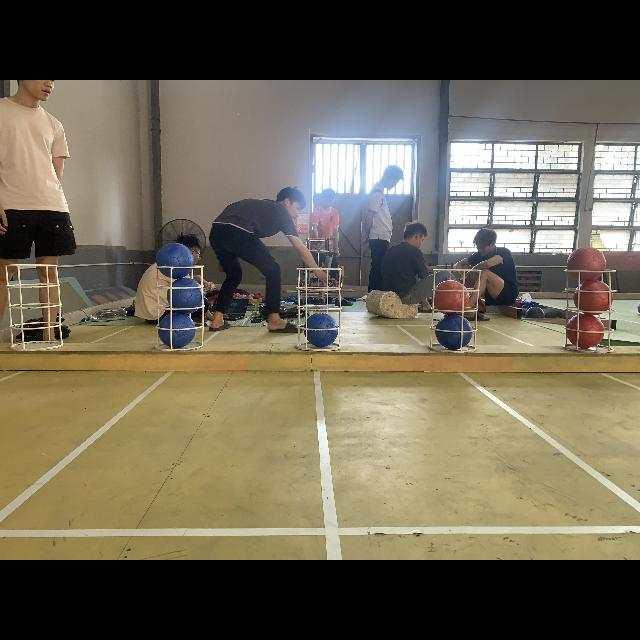B: (168, 278, 208, 314), (158, 312, 196, 348), (436, 313, 472, 349), (156, 244, 194, 278), (304, 313, 338, 347)
R: (574, 280, 614, 316), (567, 313, 603, 349), (566, 247, 606, 279), (434, 280, 470, 314)
